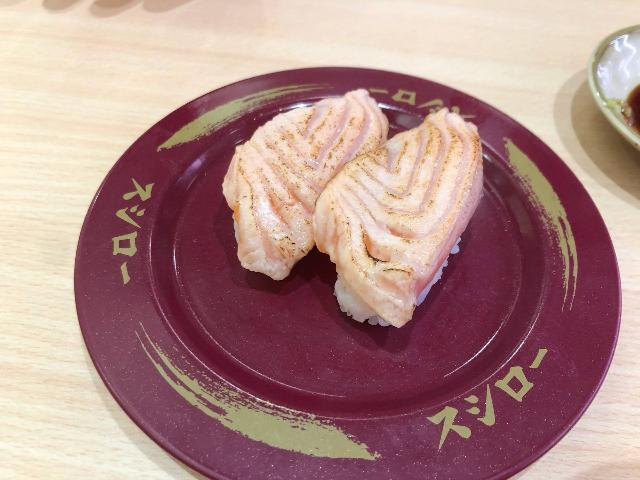janred: (131, 99, 580, 444)
